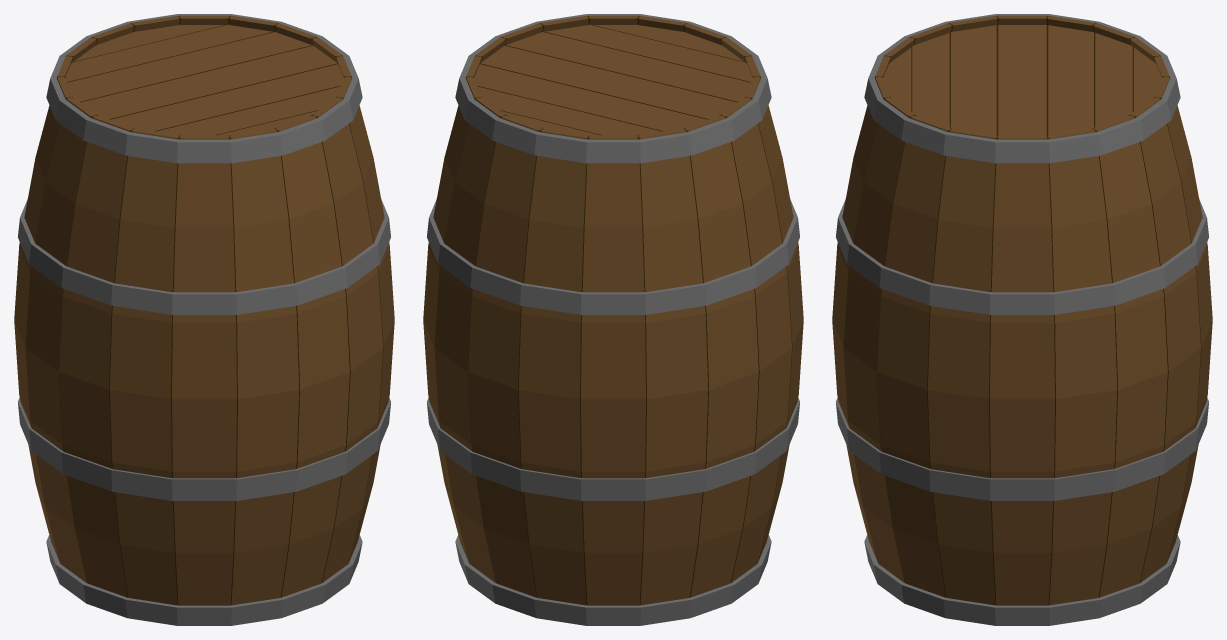
File: barrel.fbx
3 renders of one model, left to right at view 1: azimuth 30°, elevation 25°; view 2: azimuth 150°, elevation 25°; view 3: azimuth 270°, elevation 25°, orthographic.
Parts seen in each view (by area): view 1: Cylinder.001; view 2: Cylinder.001; view 3: Cylinder.001.
Part boxes in pixels (x1,y1,x2,y2): Cylinder.001: [14, 14, 394, 625]; Cylinder.001: [423, 14, 803, 625]; Cylinder.001: [832, 14, 1212, 625].
Size of the model in its own units: 397 by 569 by 403.
